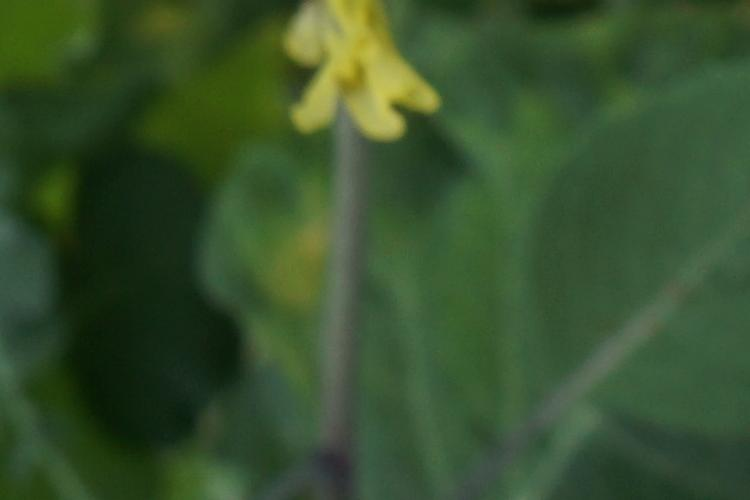yellow: (278, 16, 443, 153)
